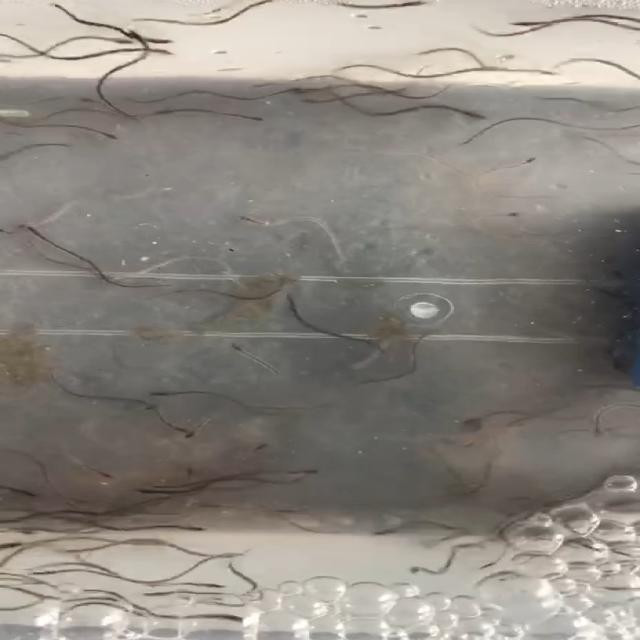active_glass_eel: (290, 92, 348, 110), (174, 423, 209, 445), (224, 110, 272, 126), (3, 481, 40, 501), (500, 152, 552, 166), (80, 127, 128, 142), (403, 558, 441, 576), (367, 522, 415, 536), (157, 416, 190, 436), (84, 465, 124, 481), (45, 562, 98, 574), (270, 270, 304, 288), (212, 606, 246, 624), (280, 83, 318, 99), (244, 433, 272, 454), (393, 0, 435, 14), (502, 15, 539, 30), (228, 209, 262, 225), (192, 574, 226, 590), (198, 597, 232, 613), (126, 34, 180, 44), (444, 109, 488, 121), (174, 465, 203, 483), (240, 0, 280, 13), (177, 520, 211, 535), (119, 27, 149, 44), (0, 538, 36, 552), (531, 64, 561, 80), (444, 135, 480, 148), (6, 227, 35, 243), (146, 42, 174, 58), (93, 268, 125, 282), (288, 467, 322, 480), (85, 592, 122, 603), (139, 590, 175, 601), (21, 221, 43, 238), (144, 389, 178, 400), (407, 46, 440, 57), (223, 338, 247, 353), (455, 0, 482, 12), (502, 208, 528, 220), (104, 147, 130, 158)
